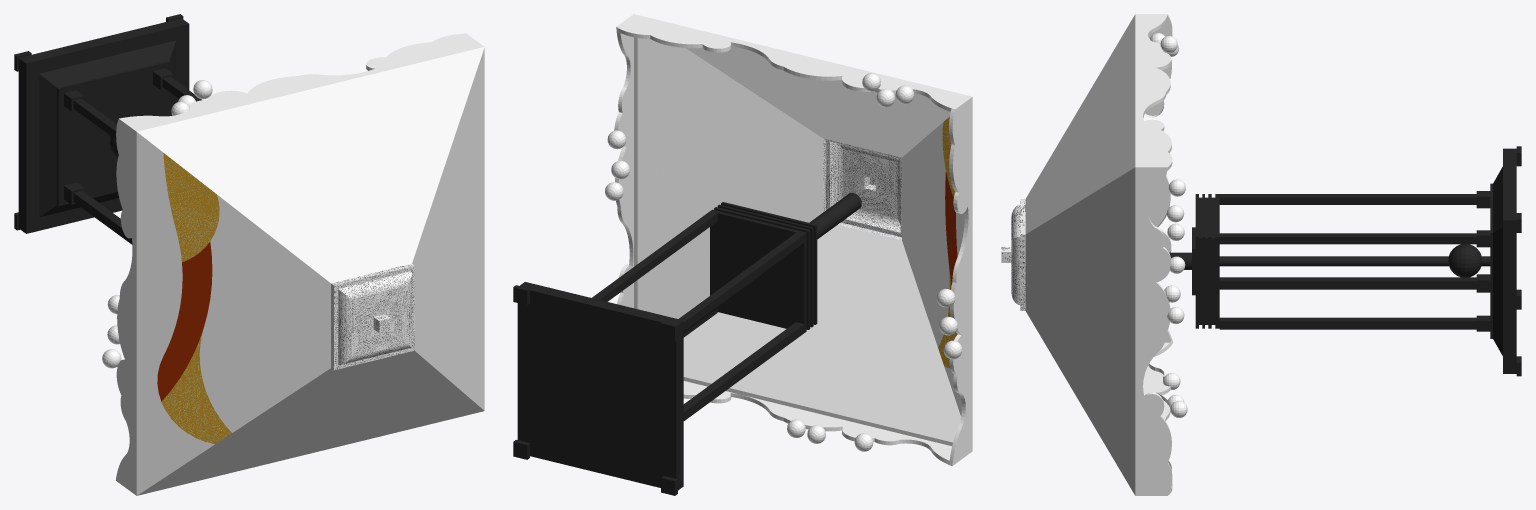
3 renders of one model, left to right at view 1: azimuth 30°, elevation 25°; view 2: azimuth 150°, elevation 25°; view 3: azimuth 270°, elevation 25°, orthographic. The views are drawn at different scales.
Parts seen in each view (by area): view 1: desk lamp stained glass; view 2: desk lamp stained glass; view 3: desk lamp stained glass.
Part boxes in pixels (left/top/right/bottom): desk lamp stained glass: left=14, top=14, right=484, bottom=495; desk lamp stained glass: left=513, top=14, right=972, bottom=495; desk lamp stained glass: left=1001, top=14, right=1521, bottom=495.
Bounding box in the file's own units: 17.46 × 17.81 × 23.9.
